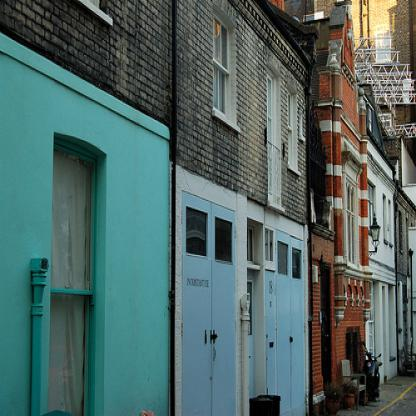motorbike: (359, 338, 384, 404)
